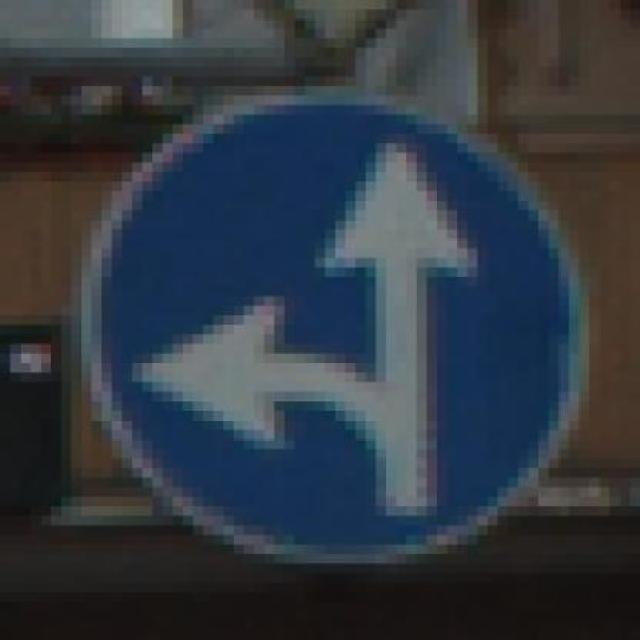Go straight or turn left: (61, 96, 610, 573)
